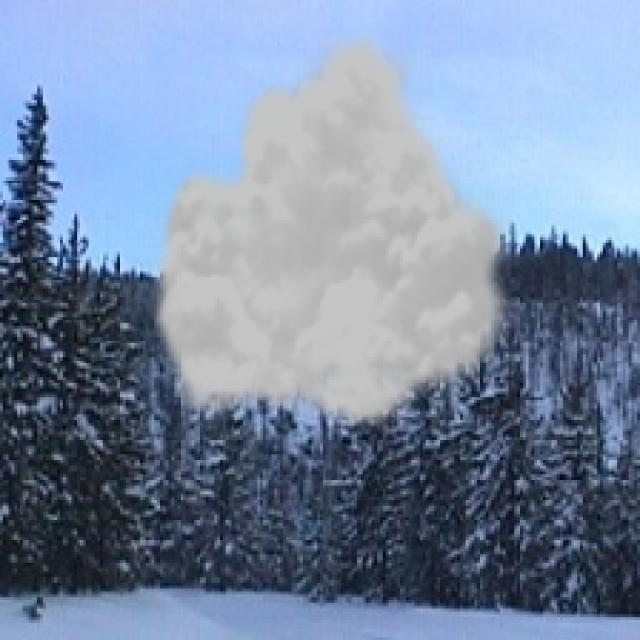Smoke: (145, 26, 520, 432)
